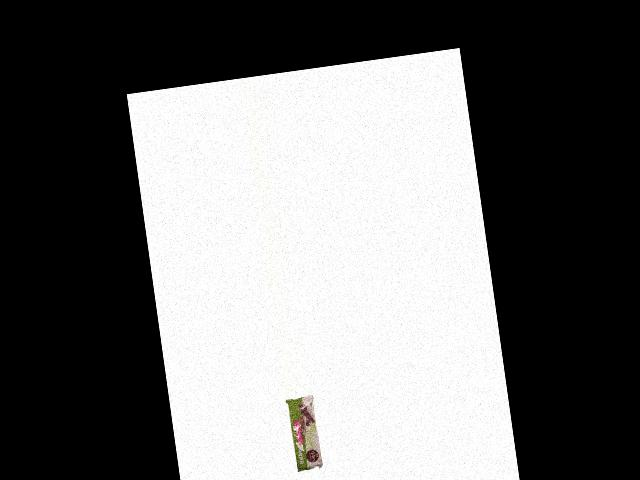chocolate: (285, 394, 326, 474)
